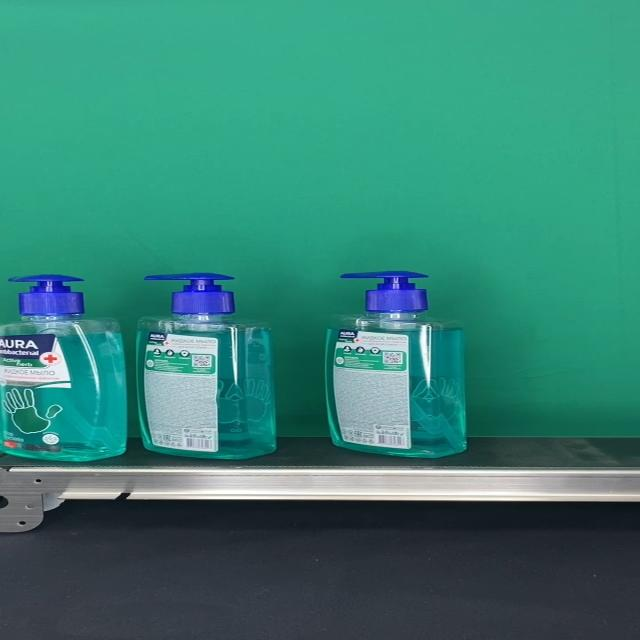Bottle: (324, 271, 467, 459), (136, 272, 277, 459), (0, 274, 127, 462)
Cap: (144, 272, 235, 314), (339, 271, 428, 312), (8, 273, 85, 314)
